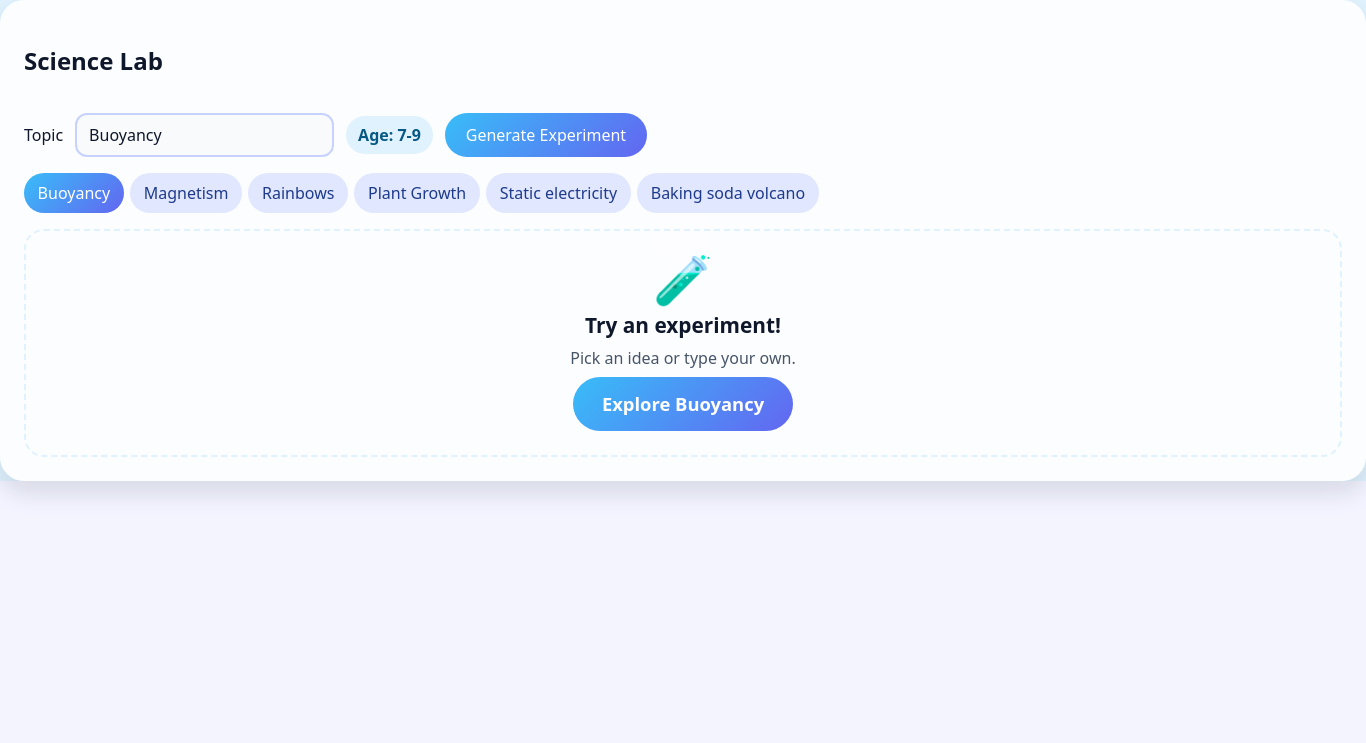
ScienceLab free topics, supervision, and observations › accepts a typed topic and sends it trimmed
Replace the text in the field labelled "Topic" with "  Why do boats float  " at (205, 135), box top-left (75, 113), bottom-right (334, 157)
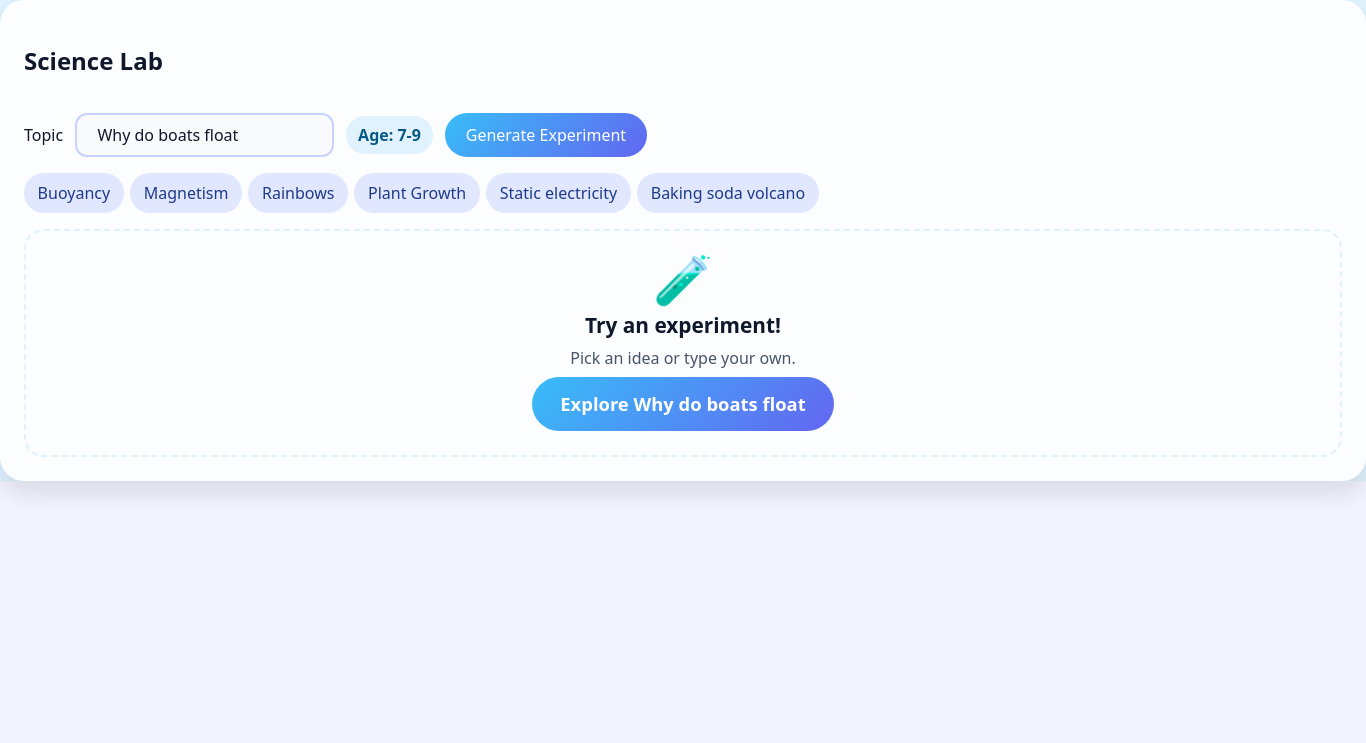
Click the button "Generate Experiment" at (546, 135), box top-left (445, 113), bottom-right (647, 157)
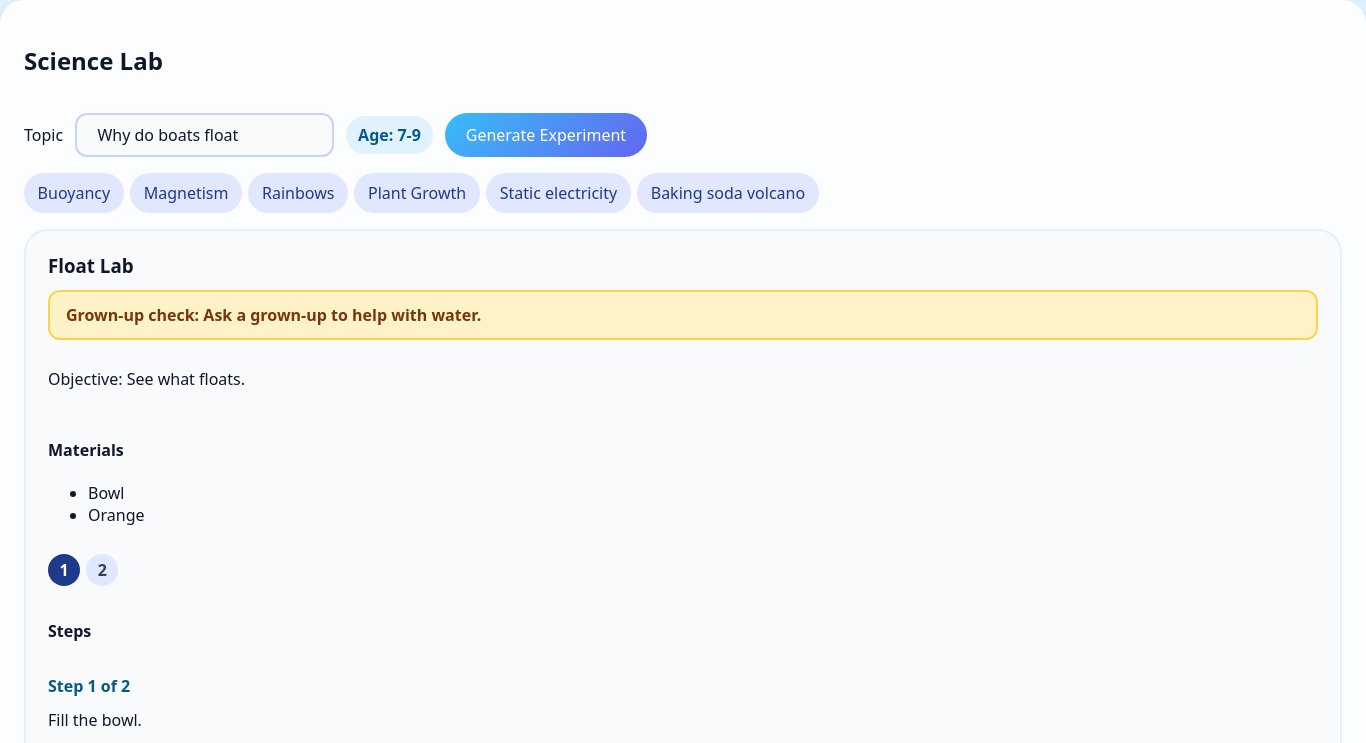
Now the heading "Float Lab" is shown, box top-left (48, 253), bottom-right (134, 278)
